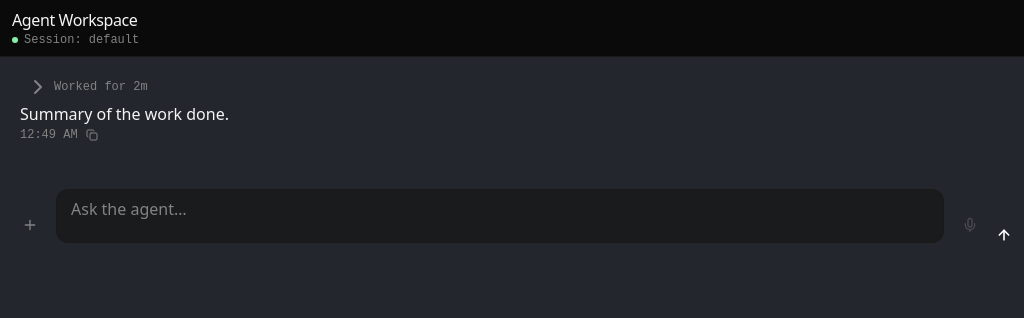
Test: MobileChatWorkspace › 3. assistant turn with durationLabel collapses behind a Worked for row
Expected: the element with test id "assistant-message-body" reads "Summary of the work done.", [20,103,229,125]
Expected: the text "git status" is not shown
Click the button with test id "worked-for-toggle" at (87, 87), box [20,73,154,101]
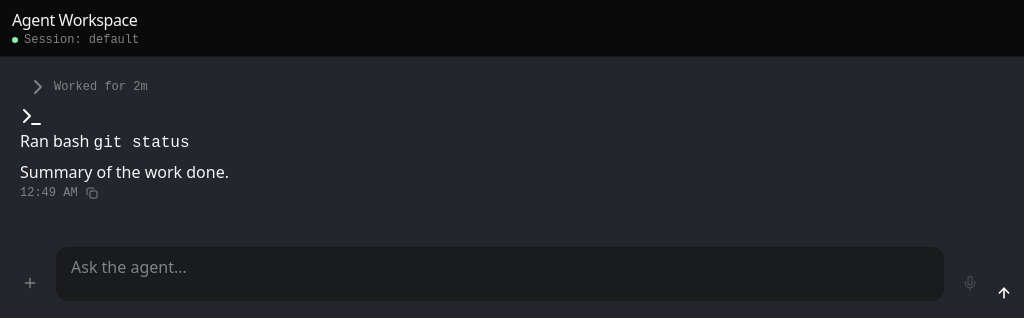
Expected: the element with test id "assistant-message-body" reads "Summary of the work done.", [20,161,229,183]
Expected: the text "git status" is shown, [94,134,190,152]
